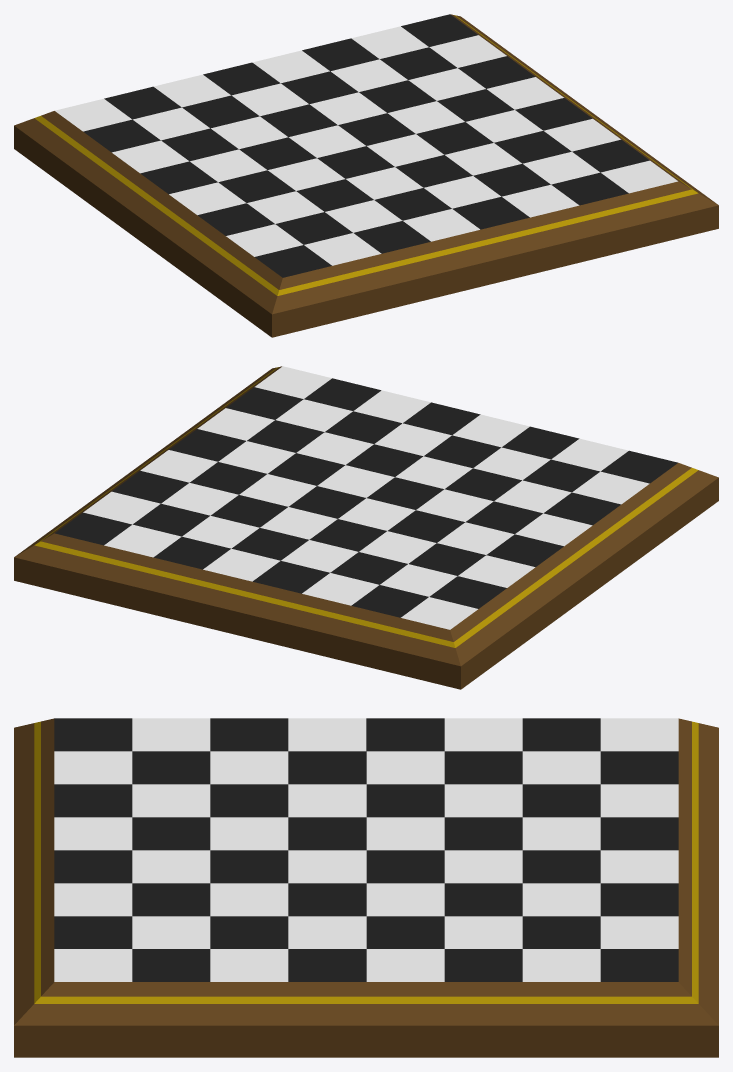
The model's file is board.glb.
The picture shows the model from 3 angles, top to bottom: view 1: azimuth 30°, elevation 25°; view 2: azimuth 150°, elevation 25°; view 3: azimuth 270°, elevation 25°; orthographic projection. The views are drawn at different scales.
Parts seen in each view (by area): view 1: Cube; view 2: Cube; view 3: Cube.
Boxes of the visible parts, left/top/right/bottom form: Cube: left=14, top=14, right=718, bottom=337; Cube: left=14, top=366, right=718, bottom=689; Cube: left=14, top=718, right=718, bottom=1057.
Bounding box in the file's own units: 0.5649 × 0.0516 × 0.5649.
Materials: 1 (1 with a texture image).
